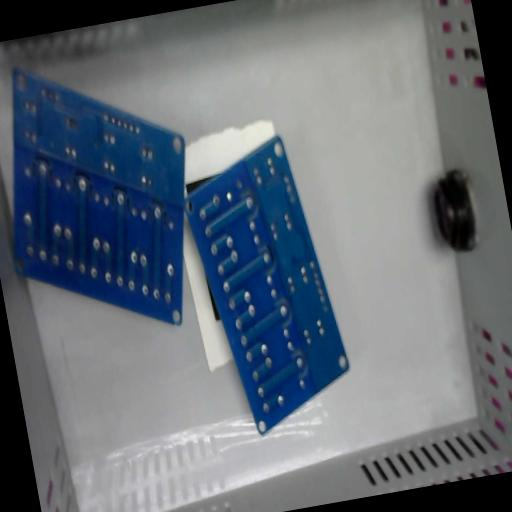relay_module: (0, 40, 217, 354), (174, 129, 359, 442)
